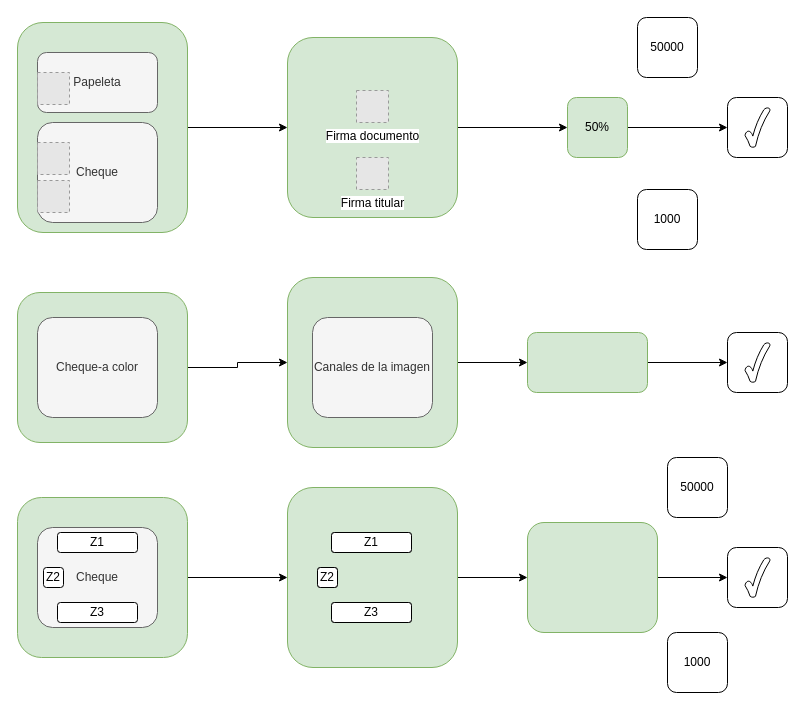
The diagram is 805 pixels wide and 710 high, and some of its shapes have lost their labels. Grey dashed boxes stand in for pictures. The centre of each missing label's shape, as x and y in pixels:
50% o (coincidente/ no coincidente): the point at 592,577
Alterado o no alterado: the point at 587,362
